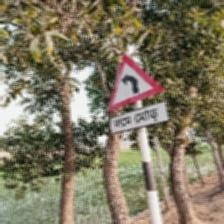Left-Turn: (106, 53, 169, 136)
